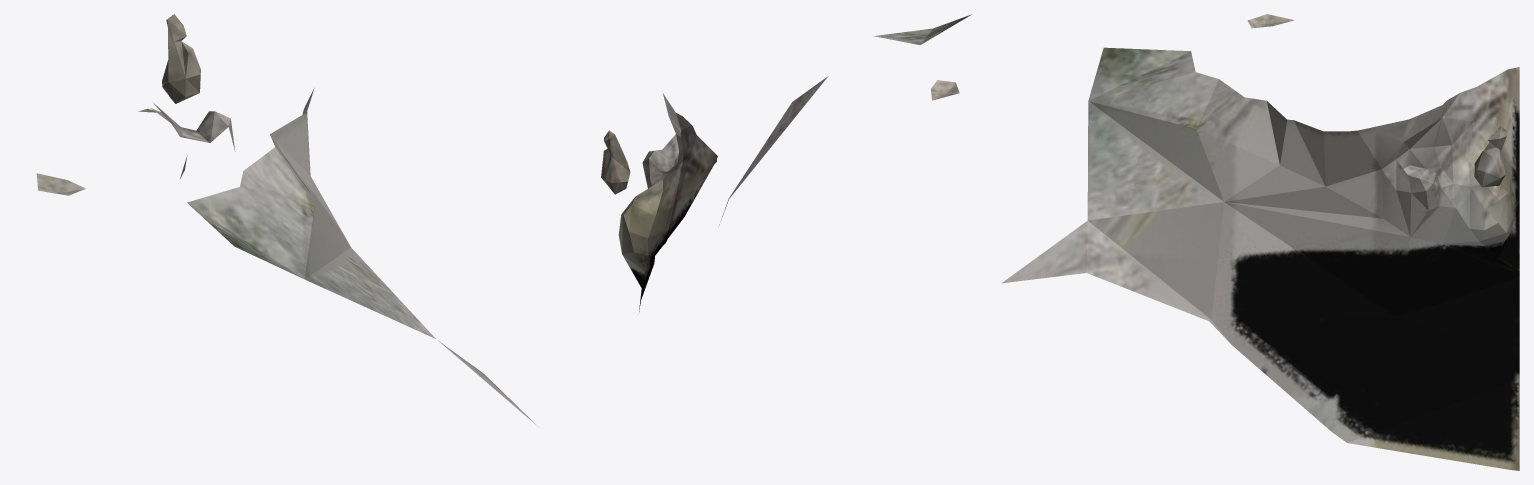
The picture shows the model from 3 angles, left to right: view 1: azimuth 30°, elevation 25°; view 2: azimuth 150°, elevation 25°; view 3: azimuth 270°, elevation 25°; orthographic projection. The views are drawn at different scales.
Bounding box in the file's own units: 6.02 × 7.62 × 10.72.
Materials: 1 (1 with a texture image).
